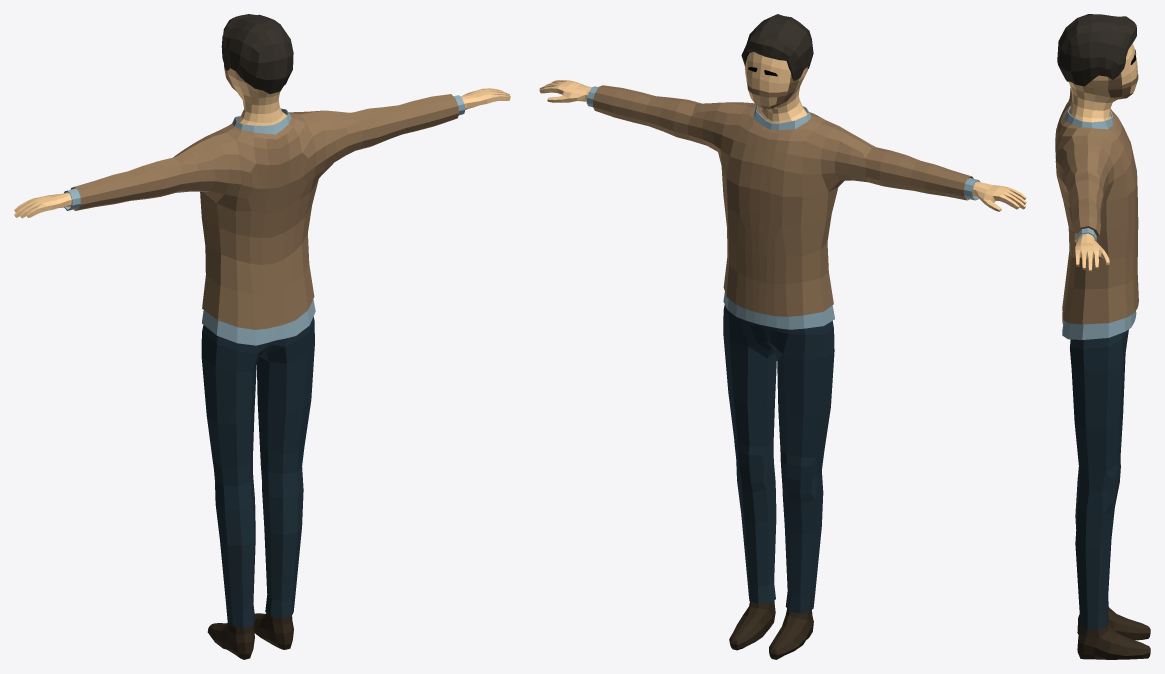
File: casualMan.obj
3 views of the same model, side by side, from view 1: azimuth 30°, elevation 25°; view 2: azimuth 150°, elevation 25°; view 3: azimuth 270°, elevation 25° (orthographic). The views are drawn at different scales.
Visible parts, largest first — view 1: ManCasual5; view 2: ManCasual5; view 3: ManCasual5.
Part boxes in pixels (x1,y1,x2,y2): ManCasual5: (14,14,510,659); ManCasual5: (539,14,1026,659); ManCasual5: (1055,14,1150,659).
Size of the model in its own units: 0.8339 by 1.01 by 0.1385.
1 material, 1 textured.
